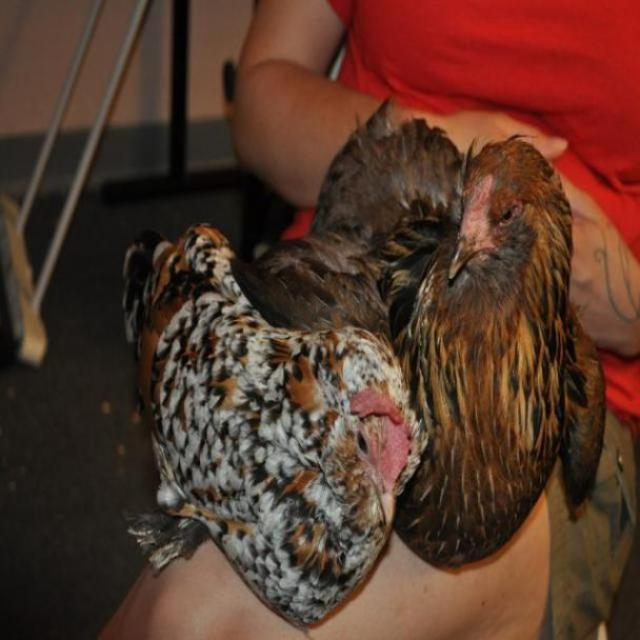Chicken: (125, 97, 608, 579)
